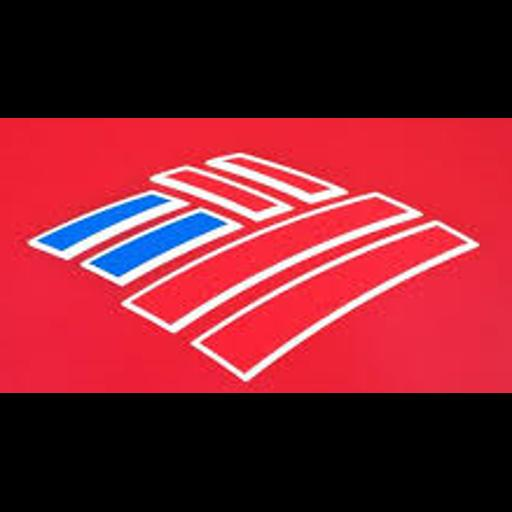Bank of America: (0, 118, 512, 393)
